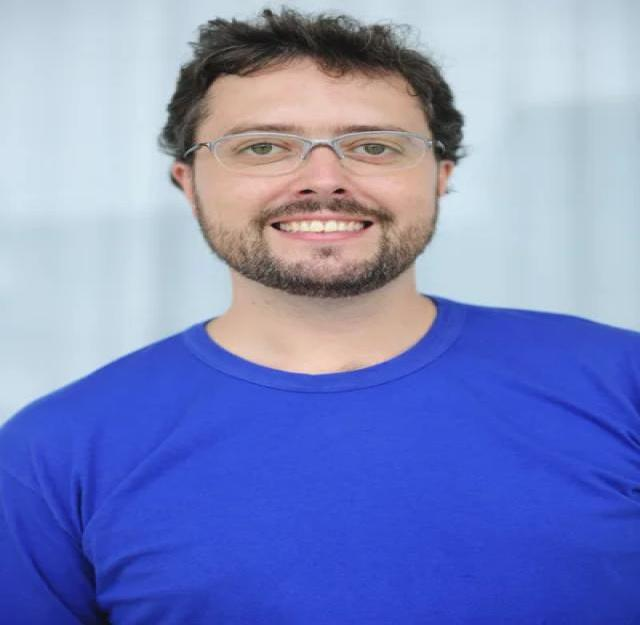no hat: (116, 1, 531, 326)
no vest: (1, 261, 640, 625)
